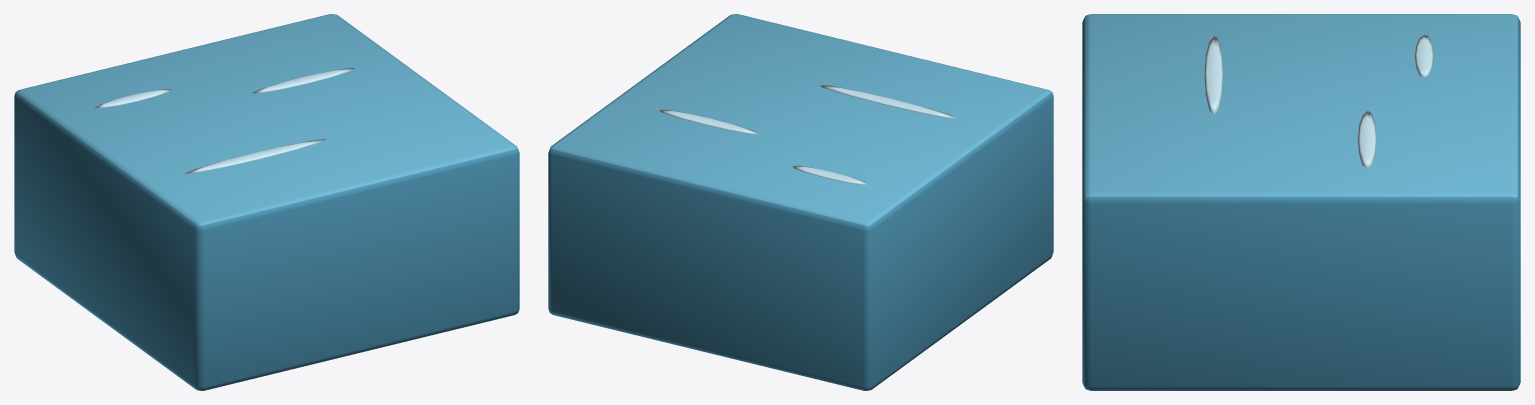
The model's file is tile-water.glb.
3 renders of one model, left to right at view 1: azimuth 30°, elevation 25°; view 2: azimuth 150°, elevation 25°; view 3: azimuth 270°, elevation 25°, orthographic. The views are drawn at different scales.
Visible parts, largest first — view 1: tile; view 2: tile; view 3: tile.
Part boxes in pixels (<box>): tile: <box>14,14,519,390</box>; tile: <box>548,14,1053,390</box>; tile: <box>1082,14,1520,390</box>.
Size of the model in its own units: 1 by 0.506 by 1.
